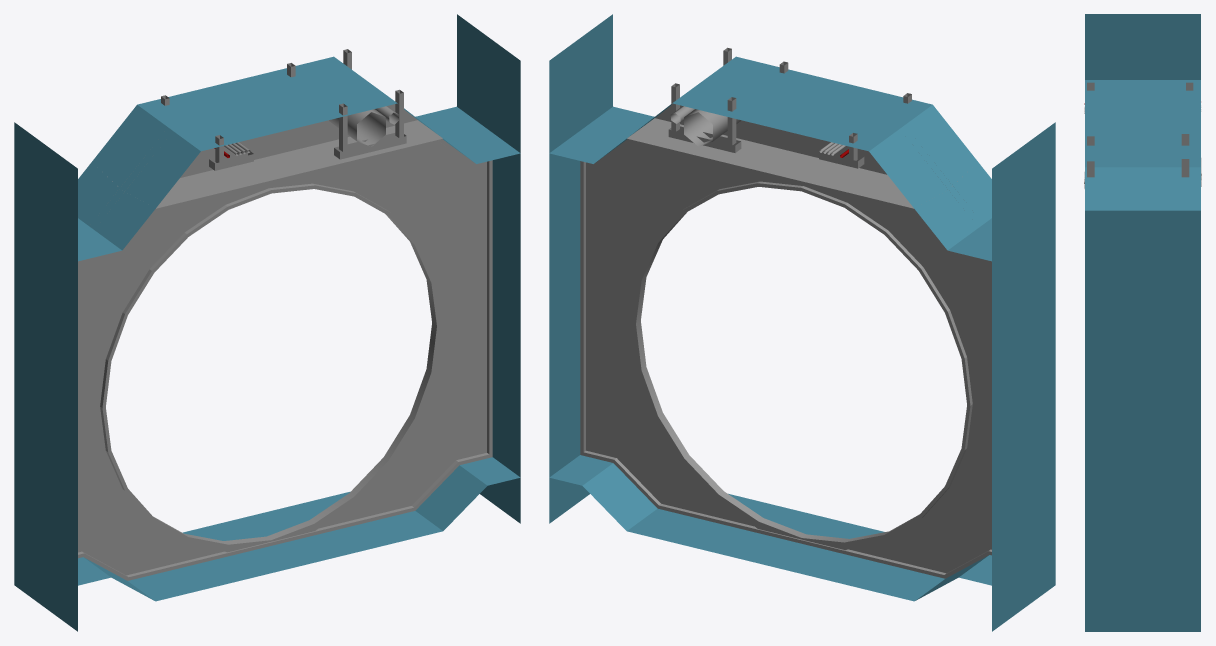
File: glass hole lod0.FBX
3 views of the same model, side by side, from view 1: azimuth 30°, elevation 25°; view 2: azimuth 150°, elevation 25°; view 3: azimuth 270°, elevation 25° (orthographic). The views are drawn at different scales.
Parts seen in each view (by area): view 1: Group070, up cable011, light cable011; view 2: Group070, up cable011, light cable011; view 3: Group070, up cable011.
Boxes of the visible parts, x1=… form: Group070: x1=14, y1=14, x2=520, y2=631; up cable011: x1=287, y1=49, x2=406, y2=159; light cable011: x1=161, y1=95, x2=253, y2=170; Group070: x1=549, y1=14, x2=1055, y2=631; up cable011: x1=668, y1=47, x2=788, y2=152; light cable011: x1=819, y1=93, x2=911, y2=168; Group070: x1=1085, y1=14, x2=1200, y2=631; up cable011: x1=1084, y1=134, x2=1201, y2=188.
Size of the model in its own units: 4 by 4 by 1.01.
